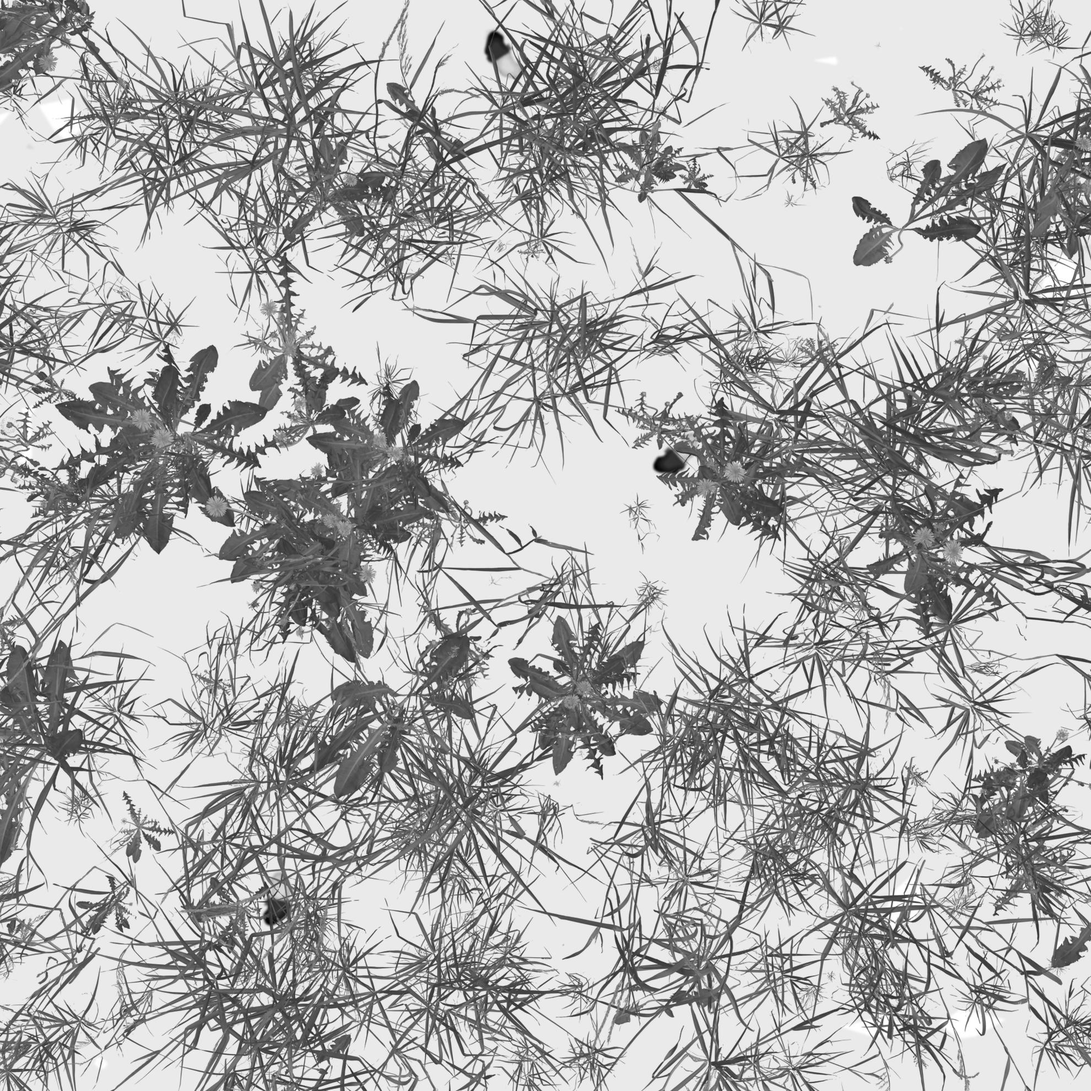landmine: (482, 25, 530, 83), (651, 429, 704, 478)
